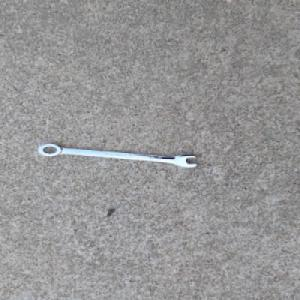Wrench: (36, 142, 200, 168)
